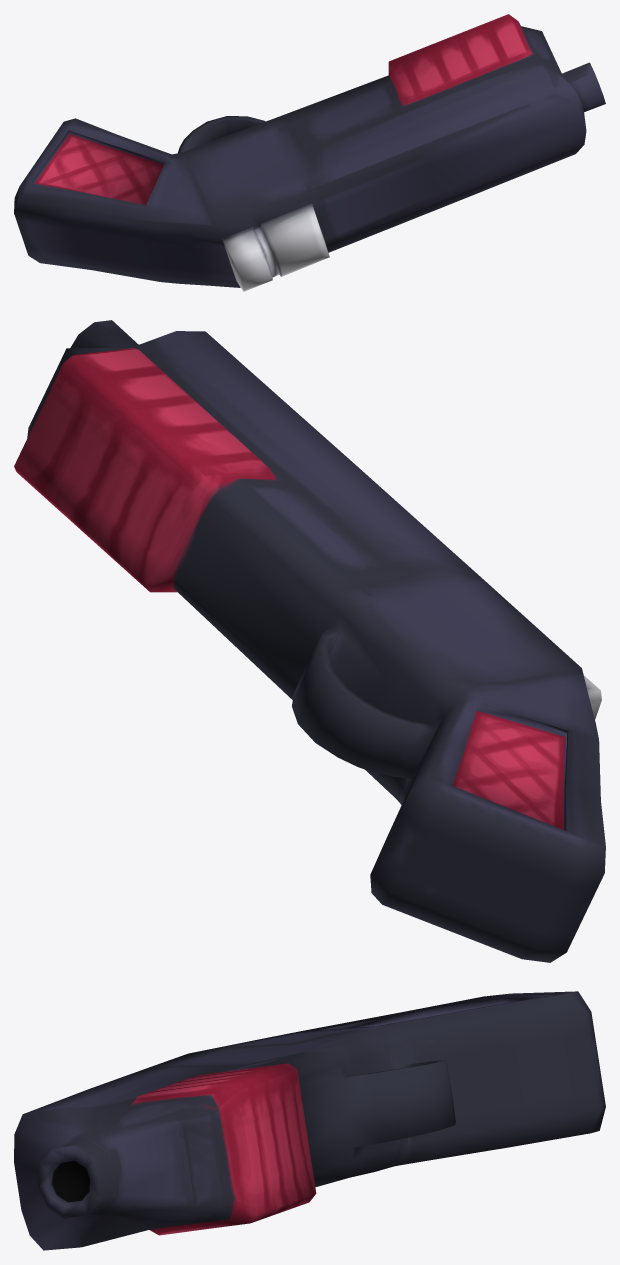
File: weapon.fbx
3 renders of one model, top to bottom at view 1: azimuth 30°, elevation 25°; view 2: azimuth 150°, elevation 25°; view 3: azimuth 270°, elevation 25°, orthographic. The views are drawn at different scales.
Visible parts, largest first — view 1: Weapon; view 2: Weapon; view 3: Weapon.
Boxes of the visible parts, left/top/right/bottom form: Weapon: left=14, top=14, right=605, bottom=291; Weapon: left=14, top=320, right=605, bottom=962; Weapon: left=14, top=991, right=605, bottom=1250.
Size of the model in its own units: 528 by 240 by 369.
